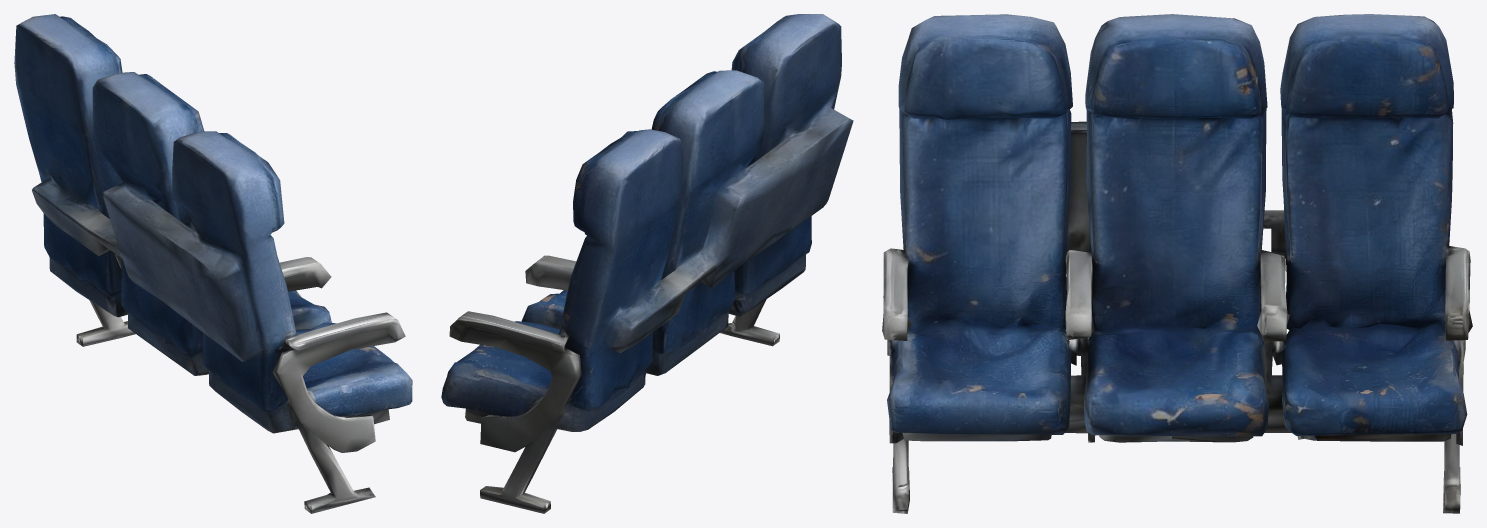
The model's file is ap_cabinseats.glb.
3 renders of one model, left to right at view 1: azimuth 30°, elevation 25°; view 2: azimuth 150°, elevation 25°; view 3: azimuth 270°, elevation 25°, orthographic. The views are drawn at different scales.
Visible parts, largest first — view 1: tripo_node_b4847fcb-13e3-4d2b-95c5-9bed5e95956e; view 2: tripo_node_b4847fcb-13e3-4d2b-95c5-9bed5e95956e; view 3: tripo_node_b4847fcb-13e3-4d2b-95c5-9bed5e95956e.
Part boxes in pixels (<box>): tripo_node_b4847fcb-13e3-4d2b-95c5-9bed5e95956e: <box>14,14,412,513</box>; tripo_node_b4847fcb-13e3-4d2b-95c5-9bed5e95956e: <box>441,14,853,513</box>; tripo_node_b4847fcb-13e3-4d2b-95c5-9bed5e95956e: <box>882,14,1472,513</box>.
Size of the model in its own units: 0.4611 by 0.7961 by 1.
Materials: 1 (1 with a texture image).
